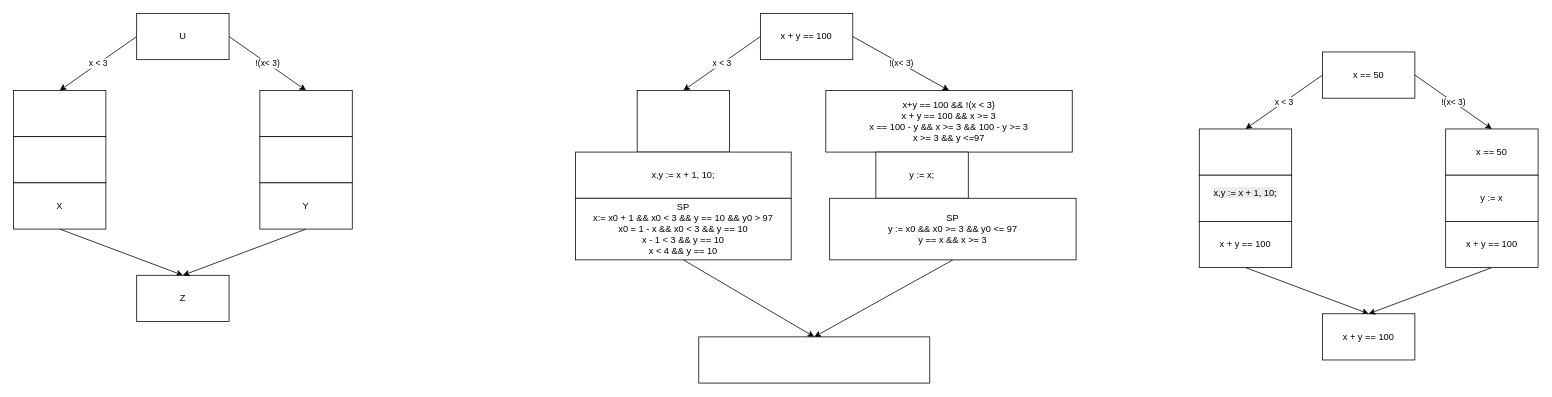
This 1552x397 diagram has some shape labels left out. Each missing label, with the centre of its shape:
"U && x < 3" belongs at point 59,113.
"V && !(x < 3)" belongs at point 305,113.
"x + 1 + 10 == 100 x == 89" belongs at point 1245,151.
"x + y == 100 && x < 3 y > 97 && x < 3" belongs at point 683,121.
"x> -2 && y == 10 || y == x && x >= 3" belongs at point 814,359.
